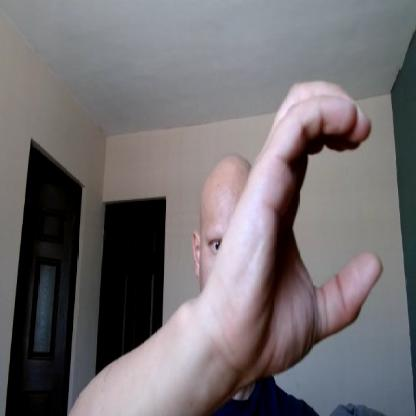C: (219, 79, 384, 386)
